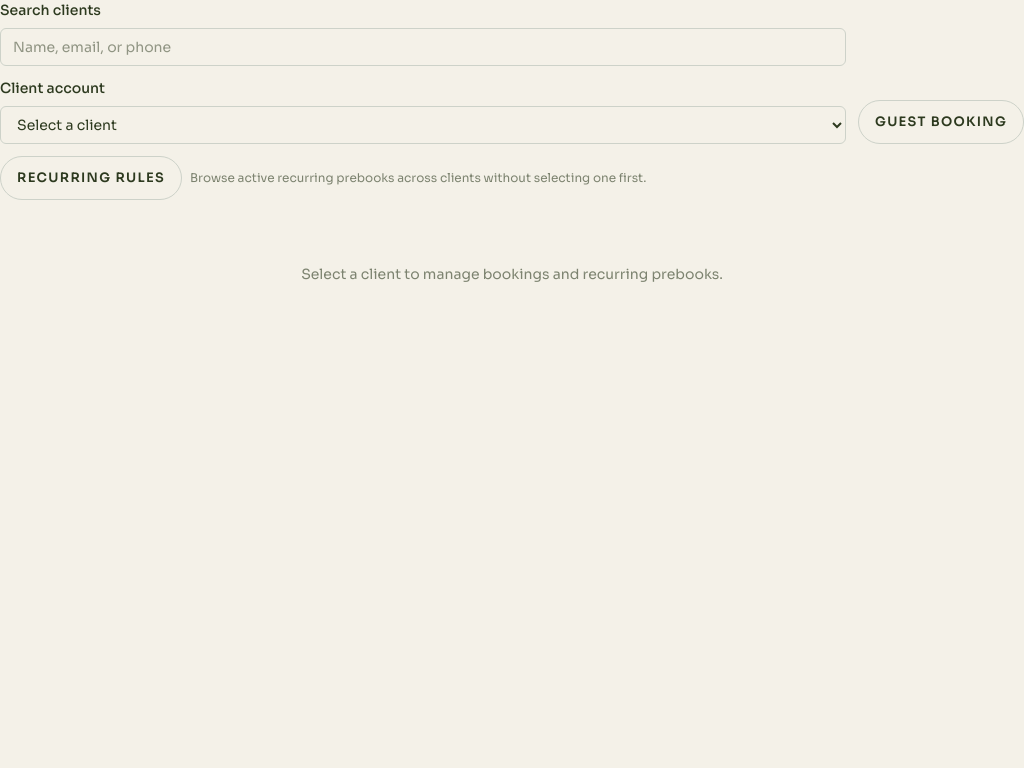
Test: ClientBookingManagerPanel › offers the recurring rules overview without a selected client
What coordinates should you click on to do the following:
click the button "Recurring rules"
I would click on:
 (91, 178)
Its box is [0,156,182,200].
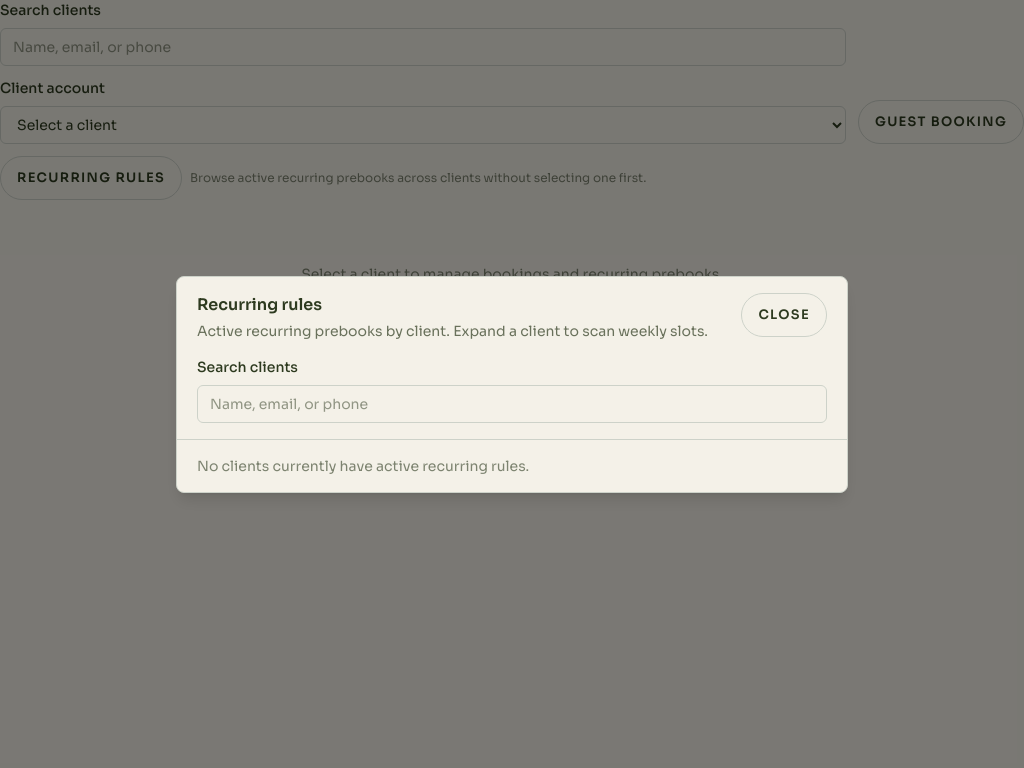
Check: the dialog "Recurring rules" is shown, box [176,276,848,492]
